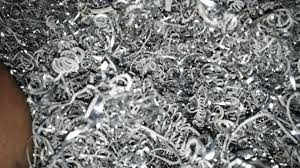metal: (149, 119, 195, 157), (189, 91, 211, 131), (47, 53, 80, 79), (217, 12, 240, 32)
